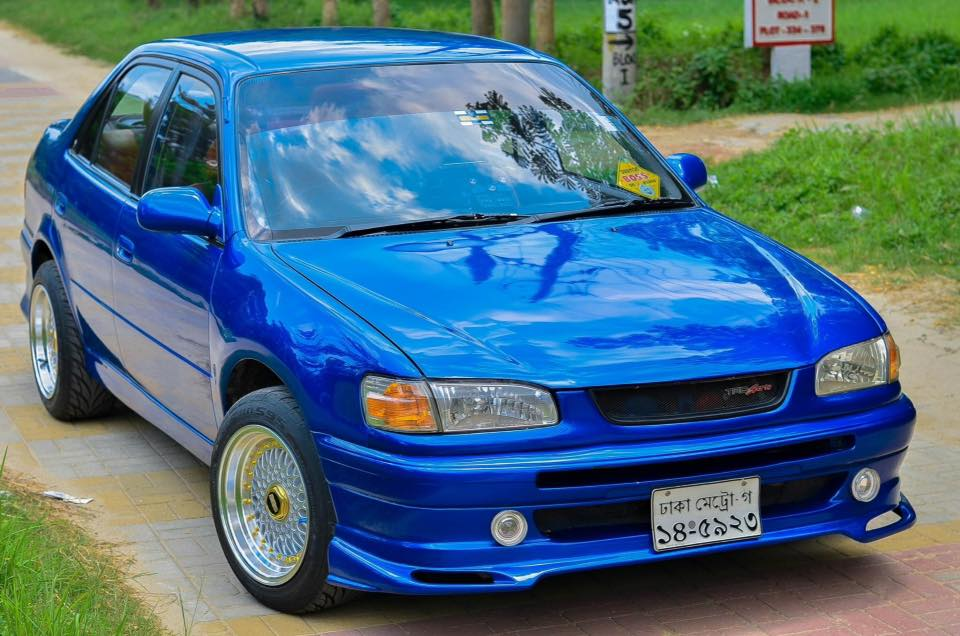registration_plate: (650, 474, 763, 552)
